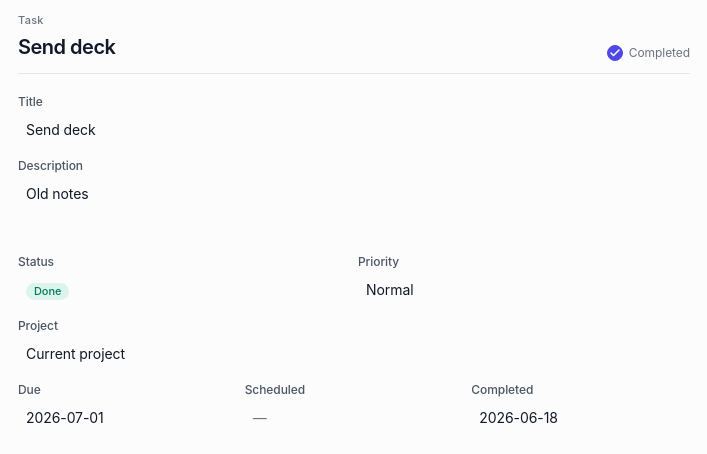
TaskDetail inline editing › clears completedAt when status changes away from done
The width and height of the screenshot is (707, 454).
Click the button with aria-label "Edit status" at [48, 291], box [18, 274, 350, 306]
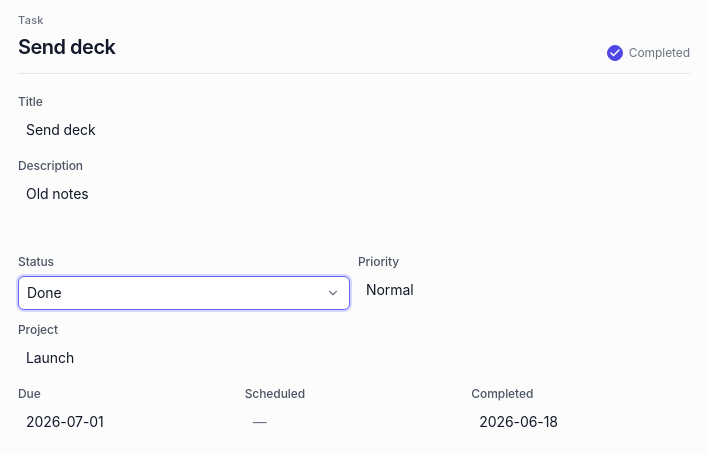
Select "Open" in the dropdown labelled "Status" at [184, 292], box [18, 276, 350, 310]
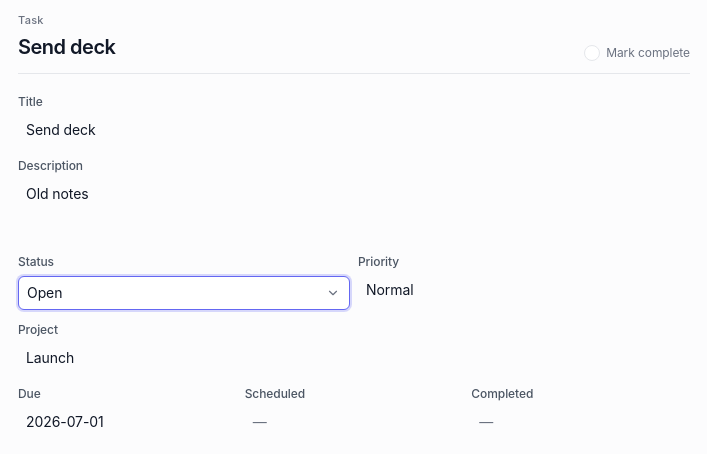
expect the button named "Edit completed" reads "—": met, box [471, 406, 690, 438]
